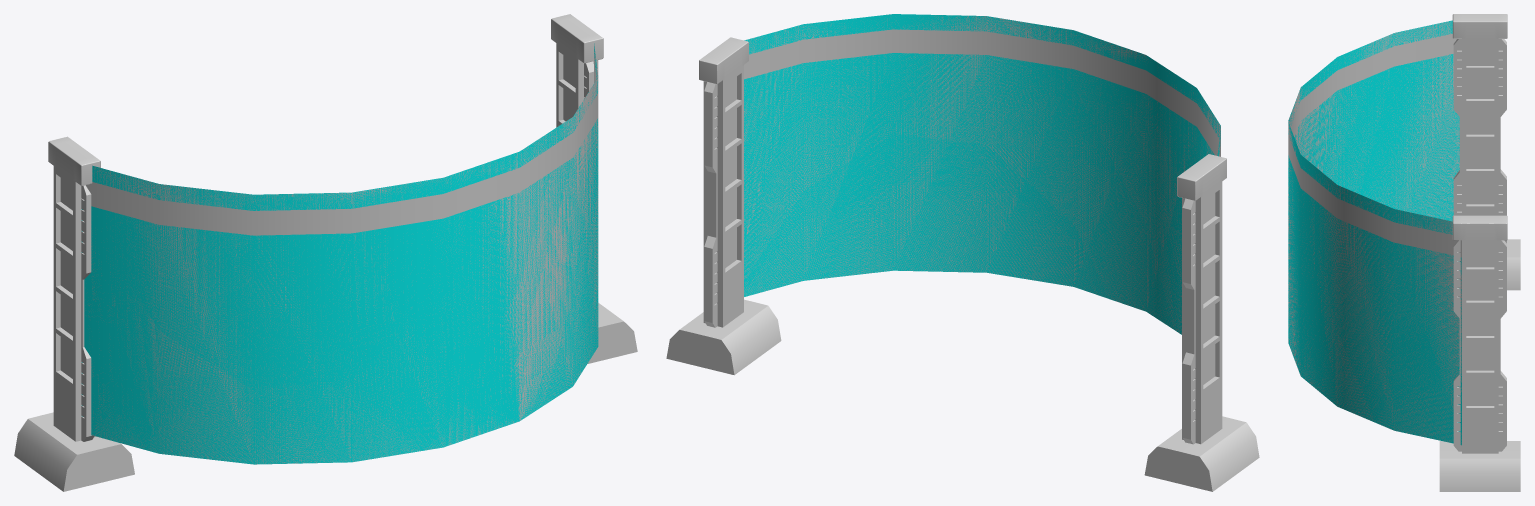
File: Energy_barrier 2.fbx
3 renders of one model, left to right at view 1: azimuth 30°, elevation 25°; view 2: azimuth 150°, elevation 25°; view 3: azimuth 270°, elevation 25°, orthographic. The views are drawn at different scales.
Parts seen in each view (by area): view 1: Barrier_big, pCylinder14, Column2, Barrier_small, Column1; view 2: Barrier_big, pCylinder14, Column2, Column1, Barrier_small; view 3: Barrier_big, pCylinder14, Column1, Column2, Barrier_small.
Part boxes in pixels (x1=…): Barrier_big: x1=81, y1=119, x2=598, y2=464; pCylinder14: x1=81, y1=46, x2=598, y2=464; Column2: x1=14, y1=136, x2=134, y2=491; Barrier_small: x1=92, y1=43, x2=598, y2=210; Column1: x1=551, y1=14, x2=637, y2=363; Barrier_big: x1=744, y1=53, x2=1214, y2=334; pCylinder14: x1=744, y1=14, x2=1220, y2=333; Column2: x1=1144, y1=154, x2=1259, y2=491; Column1: x1=666, y1=37, x2=781, y2=375; Barrier_small: x1=744, y1=14, x2=1220, y2=156; Barrier_big: x1=1288, y1=54, x2=1461, y2=445; pCylinder14: x1=1288, y1=21, x2=1461, y2=444; Column1: x1=1439, y1=215, x2=1520, y2=491; Column2: x1=1452, y1=14, x2=1520, y2=290; Barrier_small: x1=1288, y1=20, x2=1452, y2=234.
Bounding box in the file's own units: 1275 × 667 × 545.
